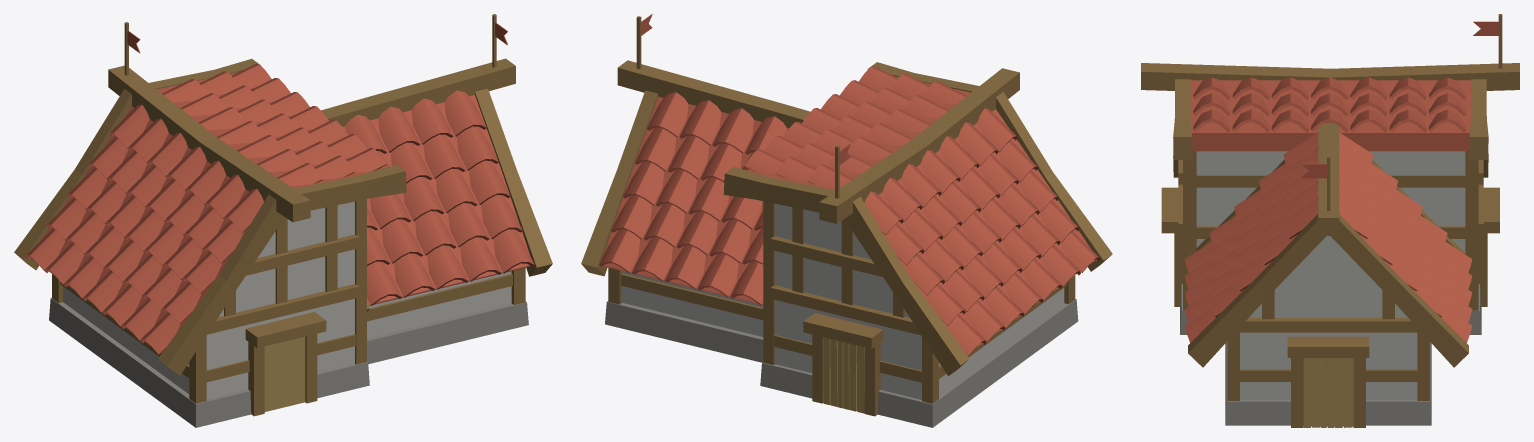
Rendered from Houses_SecondAge_2_Level2.glb.
3 views of the same model, side by side, from view 1: azimuth 30°, elevation 25°; view 2: azimuth 150°, elevation 25°; view 3: azimuth 270°, elevation 25° (orthographic). The views are drawn at different scales.
Visible parts, largest first — view 1: Houses_SecondAge_2_Level2; view 2: Houses_SecondAge_2_Level2; view 3: Houses_SecondAge_2_Level2.
Boxes of the visible parts, x1=… form: Houses_SecondAge_2_Level2: x1=14, y1=14, x2=552, y2=427; Houses_SecondAge_2_Level2: x1=581, y1=14, x2=1112, y2=427; Houses_SecondAge_2_Level2: x1=1141, y1=14, x2=1519, y2=427.
Size of the model in its own units: 1.55 by 0.9455 by 1.17.
Materials: 1 (1 with a texture image).
